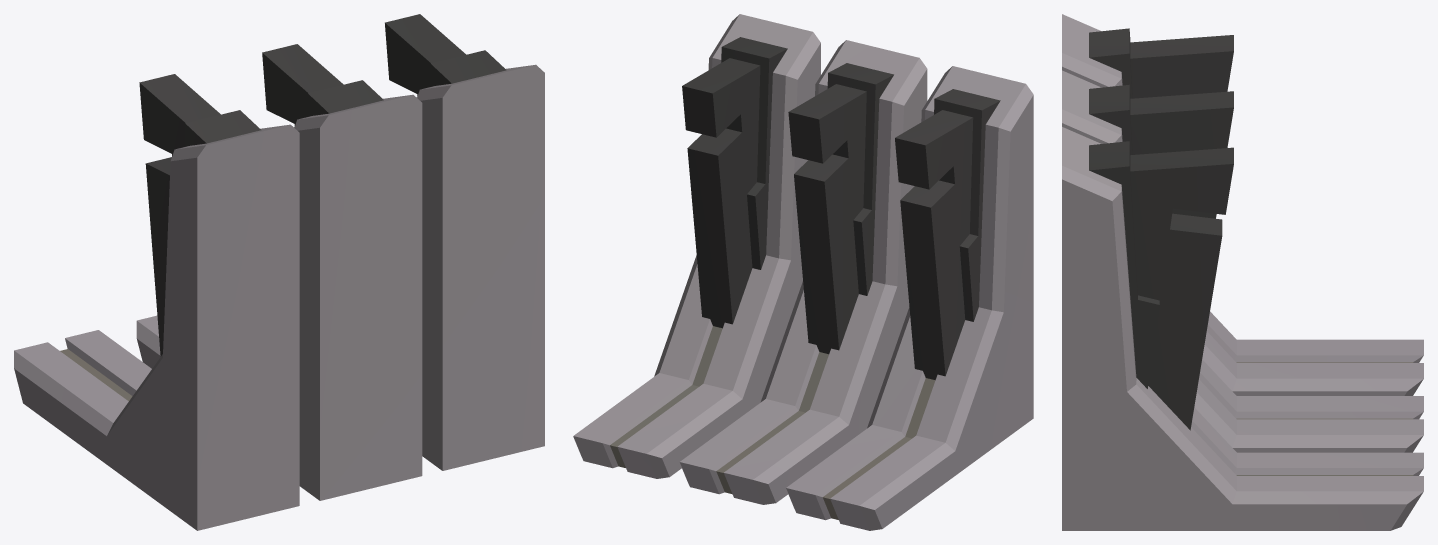
The model's file is entity81592.glb.
3 views of the same model, side by side, from view 1: azimuth 30°, elevation 25°; view 2: azimuth 150°, elevation 25°; view 3: azimuth 270°, elevation 25° (orthographic). The views are drawn at different scales.
Visible parts, largest first — view 1: node_SM_Bld_Greeble_12 (5); view 2: node_SM_Bld_Greeble_12 (5); view 3: node_SM_Bld_Greeble_12 (5).
Part boxes in pixels (box(x1,y1,x2,y2)): node_SM_Bld_Greeble_12 (5): box(14, 14, 544, 530); node_SM_Bld_Greeble_12 (5): box(573, 14, 1033, 530); node_SM_Bld_Greeble_12 (5): box(1062, 14, 1423, 530).
Size of the model in its own units: 1.43 by 1.51 by 1.37.
1 material, 1 textured.
